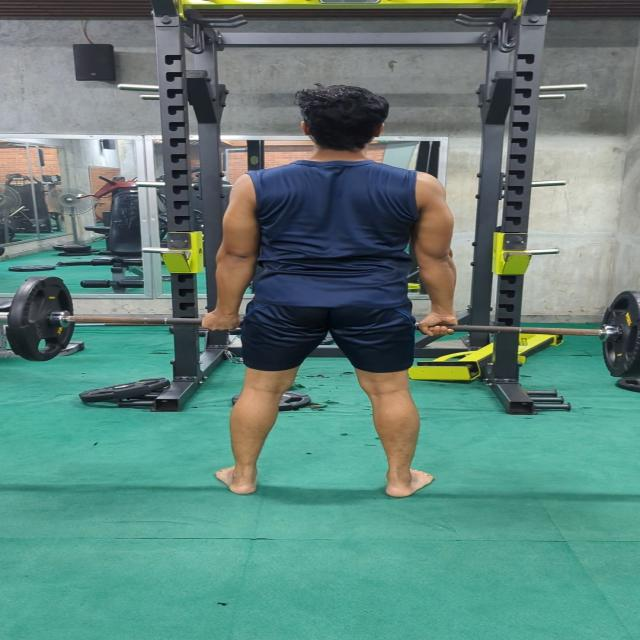Normal_Deadlifts: (198, 84, 457, 497)
